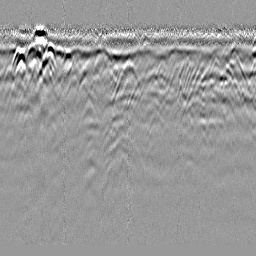cavity: (109, 56, 142, 101)
